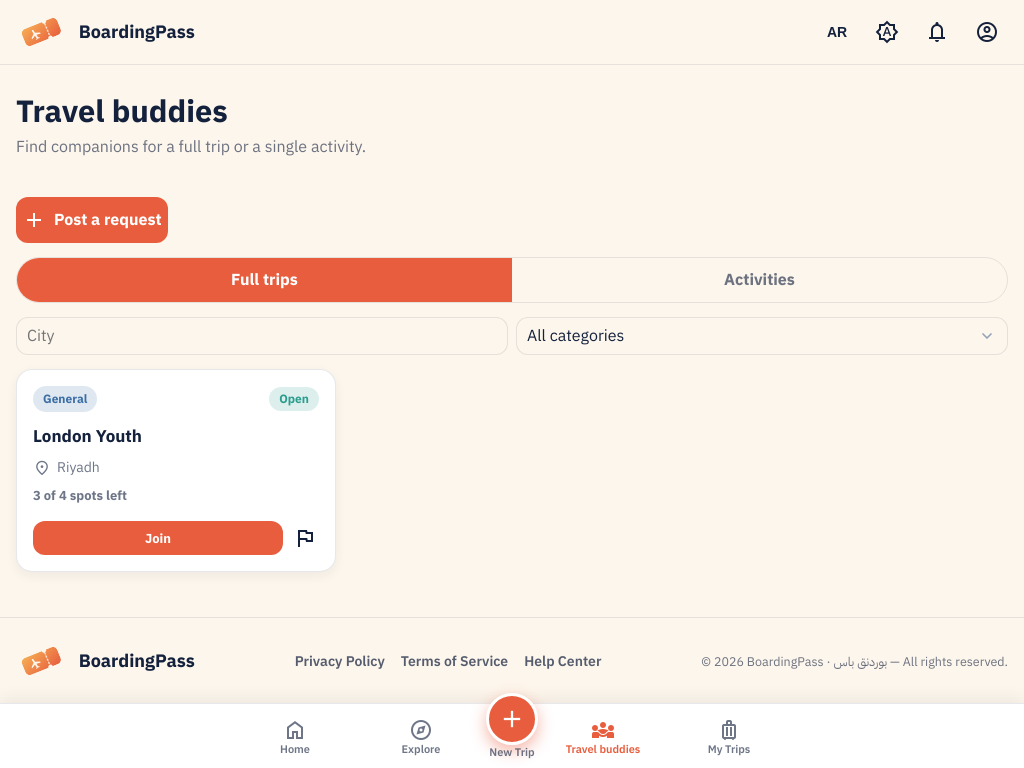
Test: US-011 Travel Buddies UI › lets an authenticated user join an open request (AC2)
Step 1. Click the button "Join" → coordinates (158, 538), box [33,521,283,555]
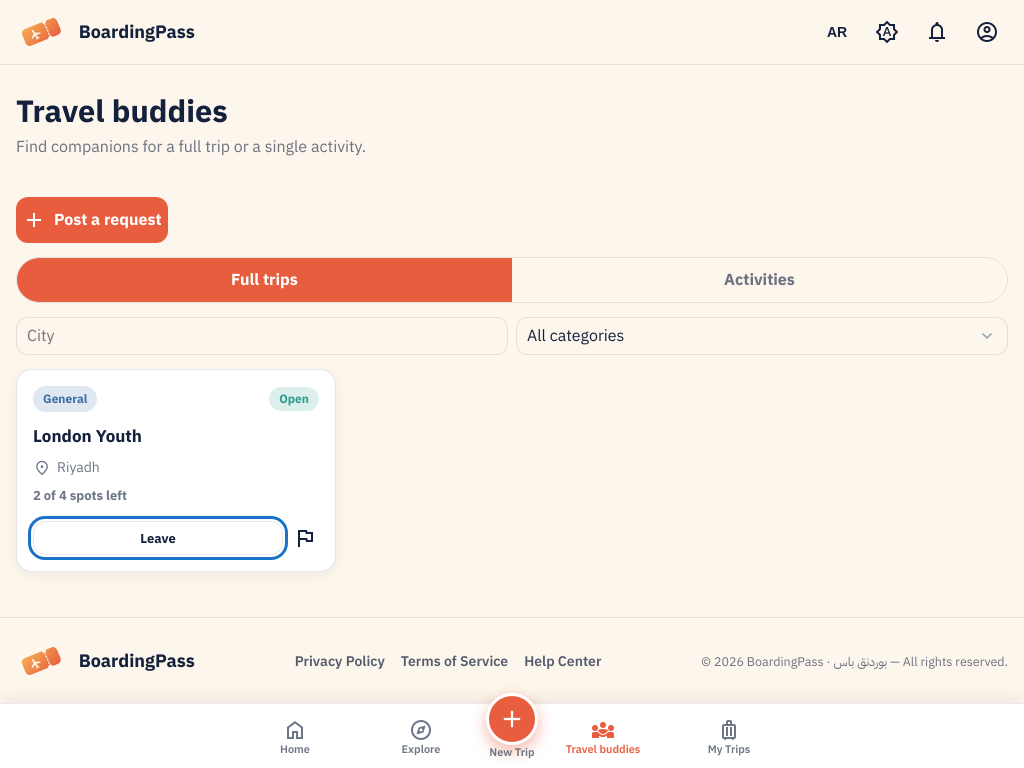
Expected: the button "Leave" is shown, [33,521,283,555]
